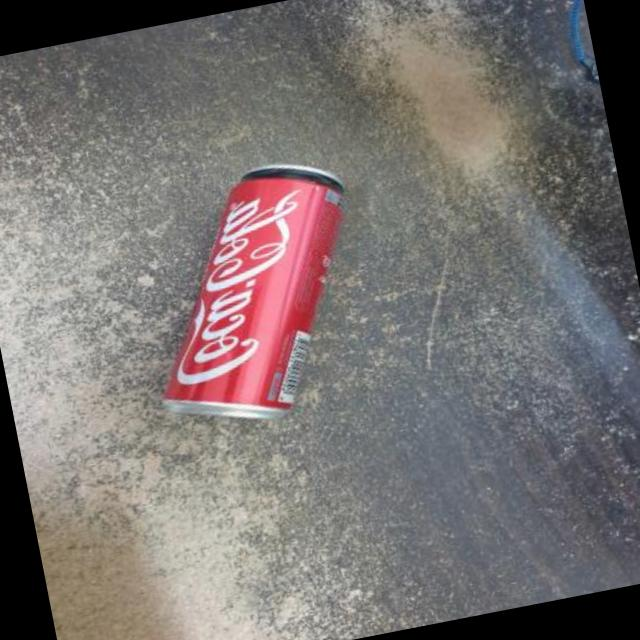metal: (166, 167, 351, 421)
